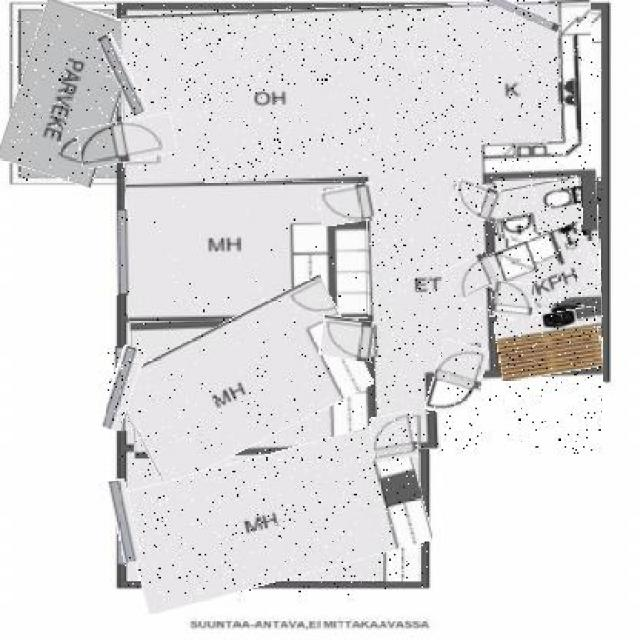door: (78, 117, 177, 166), (429, 341, 485, 417), (318, 183, 377, 225), (320, 318, 374, 362), (371, 412, 417, 460), (445, 255, 497, 297), (452, 182, 505, 218), (491, 282, 534, 318)
window: (106, 32, 140, 117), (108, 346, 142, 431), (452, 0, 562, 22), (111, 480, 137, 563), (114, 210, 131, 296)
zone: (123, 4, 602, 453), (121, 437, 428, 595), (120, 297, 366, 465), (128, 182, 368, 318), (9, 3, 129, 182), (488, 230, 597, 312), (495, 311, 603, 377), (491, 180, 582, 235)
